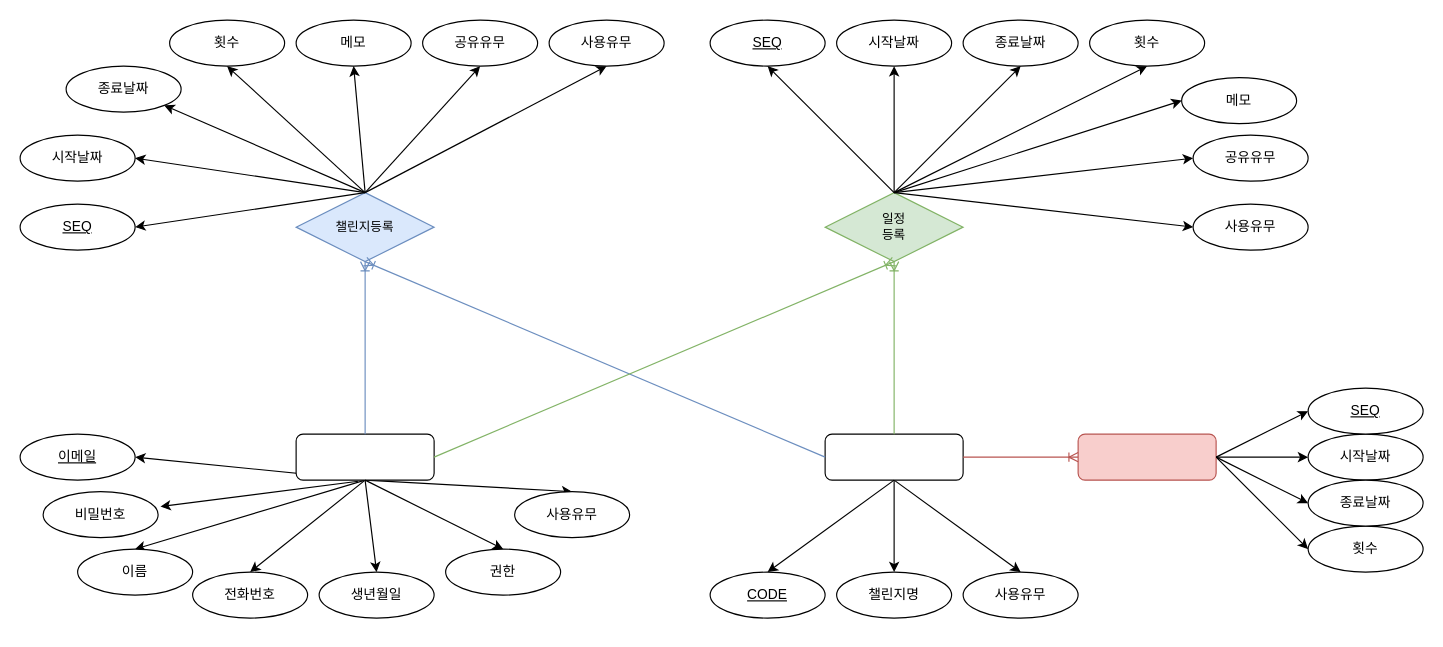
The diagram is 1443 pixels wide and 647 high, and some of its shapes have lost their labels. Each missing label, with the centre of its shape:
계획: [893,456]
유저: [364,456]
챌린지 로그: [1146,456]
